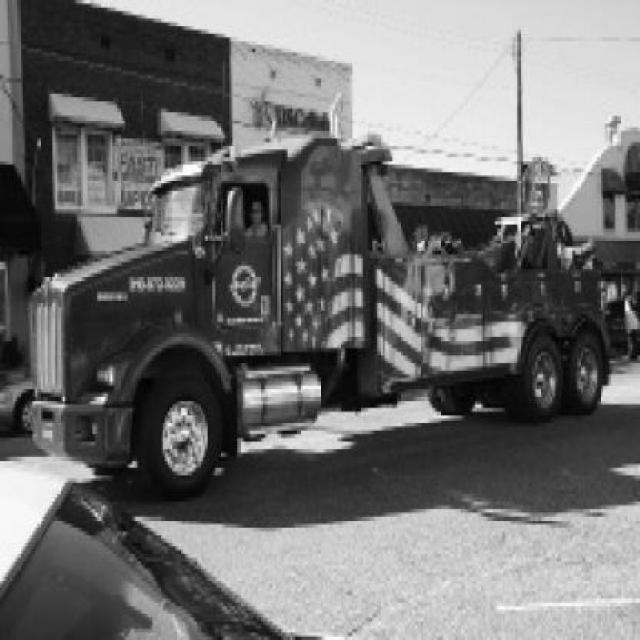Tow Truck: (27, 93, 610, 501)
